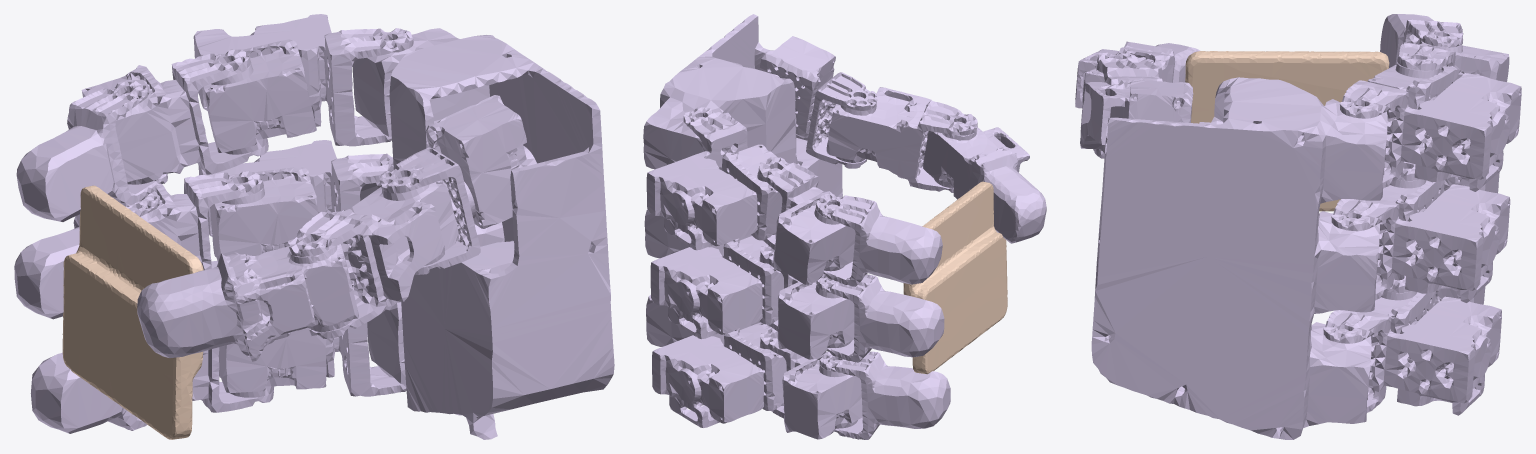
3 renders of one model, left to right at view 1: azimuth 30°, elevation 25°; view 2: azimuth 150°, elevation 25°; view 3: azimuth 270°, elevation 25°, orthographic. The views are drawn at different scales.
Parts seen in each view (by area): view 1: LEAP_hand, world; view 2: LEAP_hand, world; view 3: LEAP_hand, world.
Boxes of the visible parts, bbox=[...] form: LEAP_hand: bbox=[14, 14, 614, 439]; world: bbox=[62, 185, 203, 439]; LEAP_hand: bbox=[643, 14, 1046, 439]; world: bbox=[903, 181, 1007, 374]; LEAP_hand: bbox=[1075, 14, 1521, 439]; world: bbox=[1185, 51, 1389, 211].
Size of the model in its own units: 0.1684 by 0.1365 by 0.1647.
